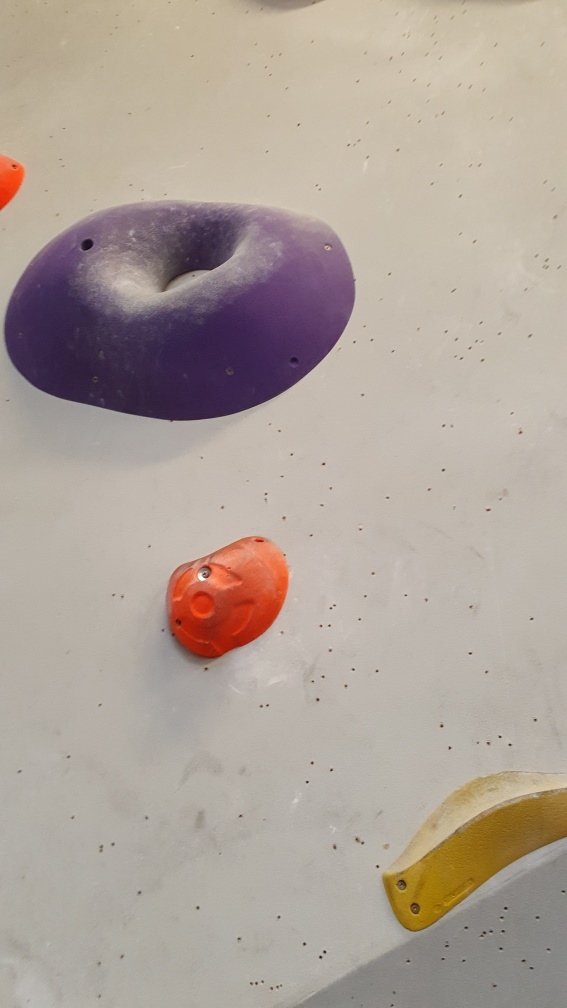Pocket: (1, 195, 358, 427)
